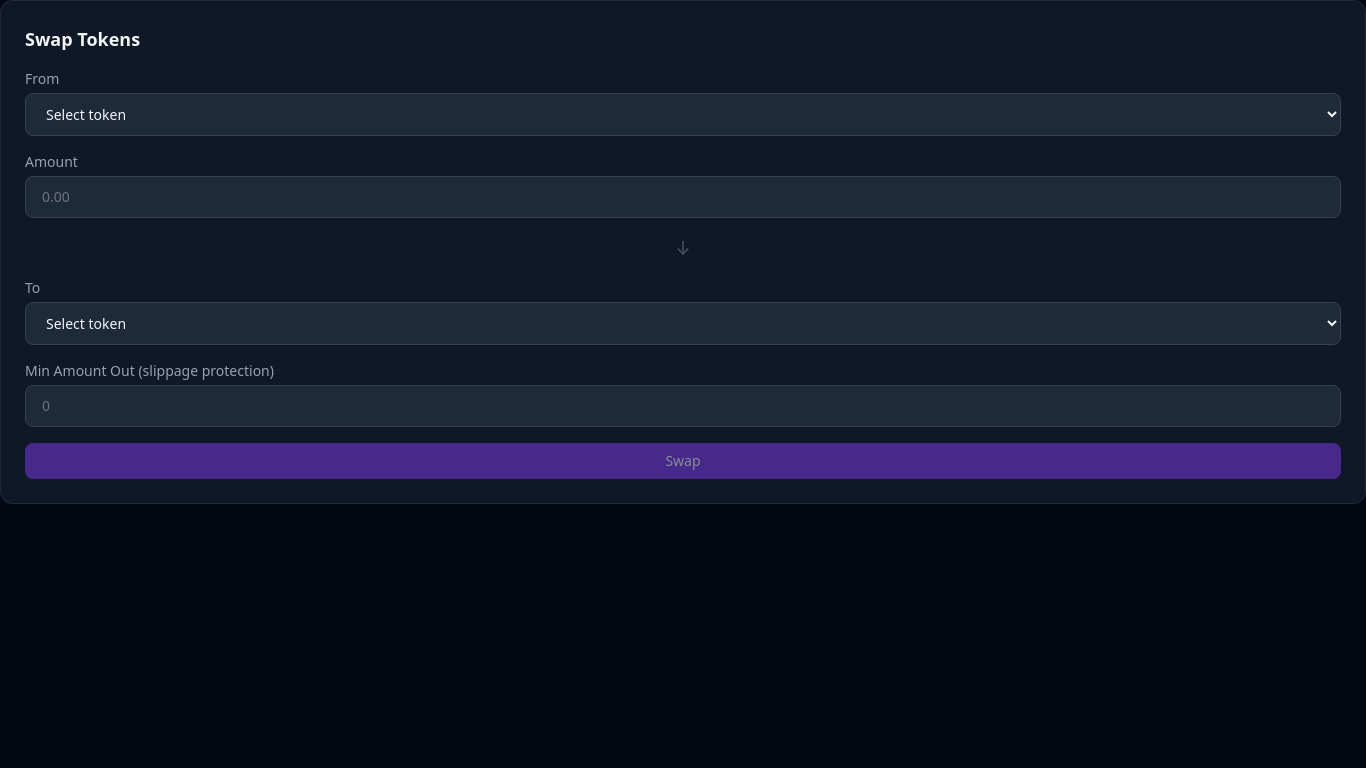
SwapWidget › shows 'Insufficient balance' error when amount_in exceeds balance
Select "USDC — Balance: 100" in the dropdown below "From" at (683, 114), box x1=25 y1=93 x2=1341 y2=136
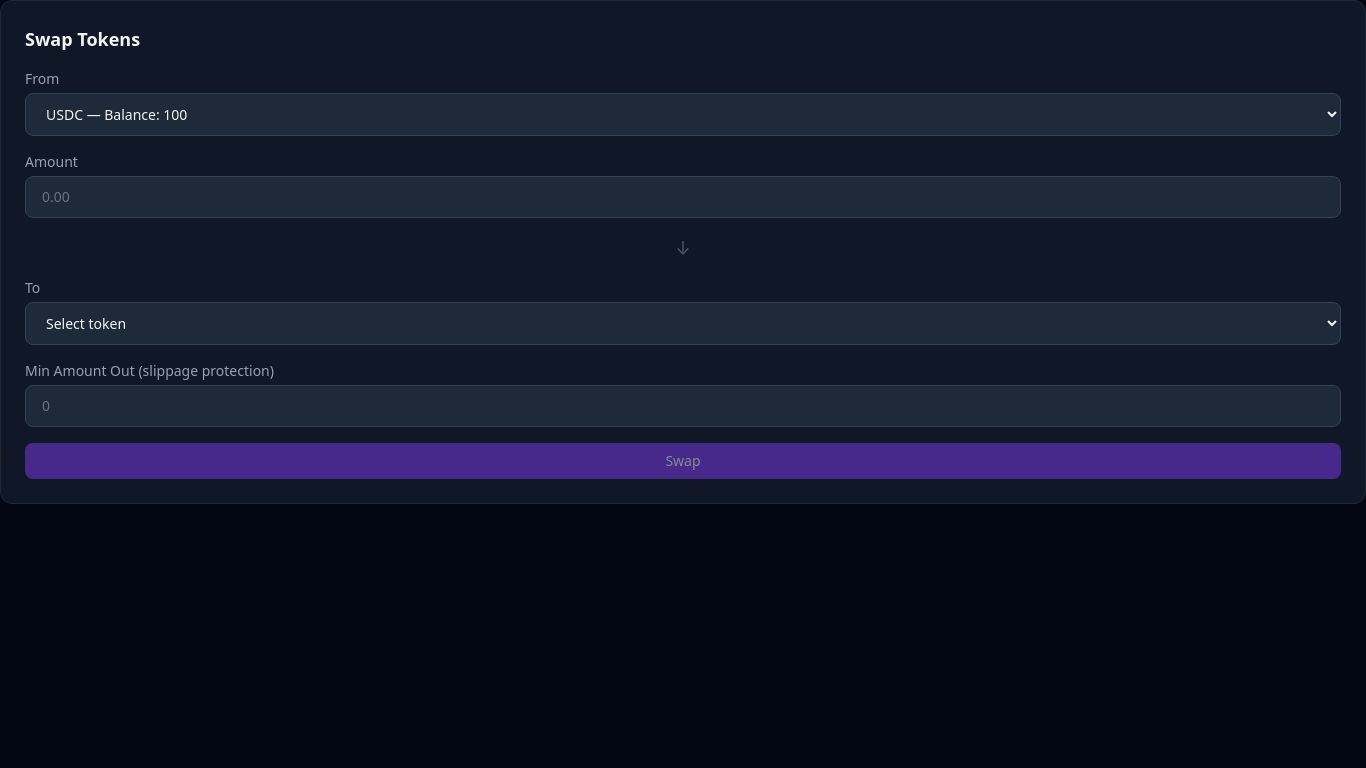
Type "200" into the number field with placeholder "0.00".
click(683, 197); type("200")  # box x1=25 y1=176 x2=1341 y2=218
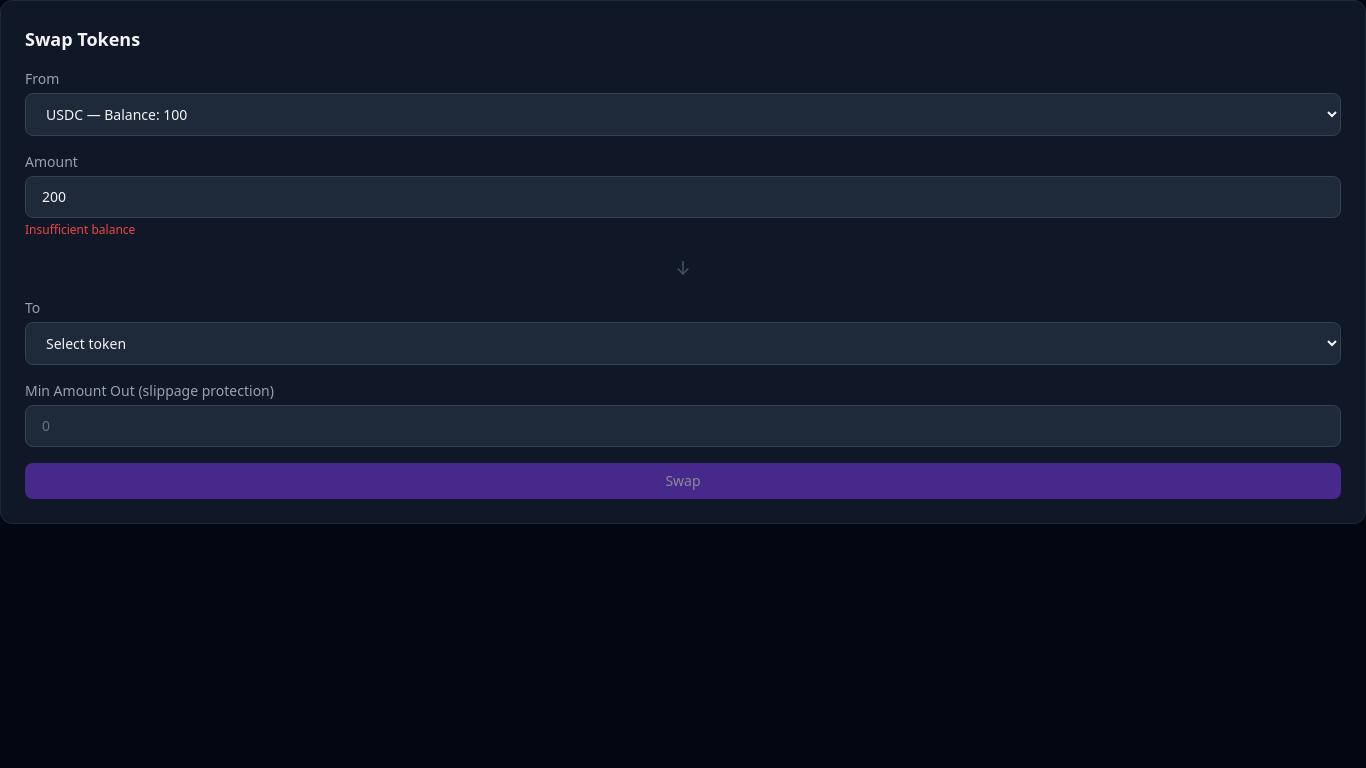
Now the text "Insufficient balance" is shown, box x1=25 y1=221 x2=135 y2=238
